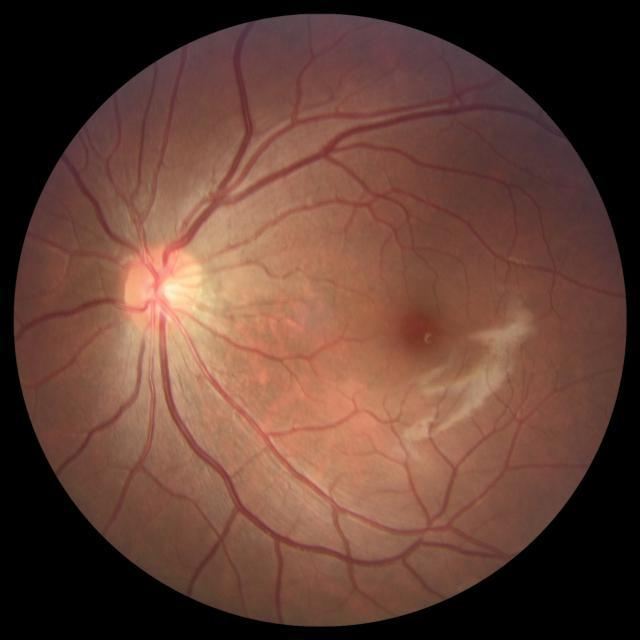OC: (147, 274, 181, 309)
OD: (124, 246, 203, 339)
